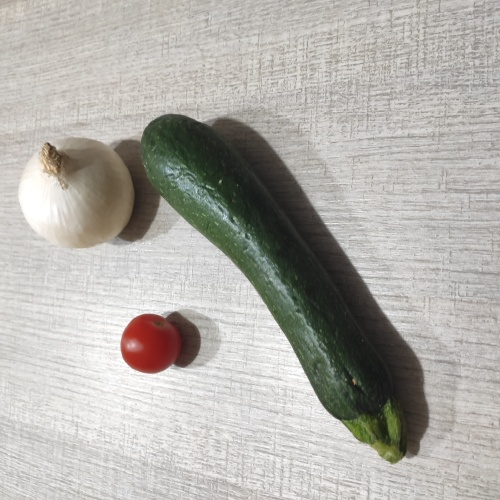cipolla: (18, 138, 137, 266)
pomodoro: (119, 306, 187, 380)
zucchine: (151, 112, 445, 459)
